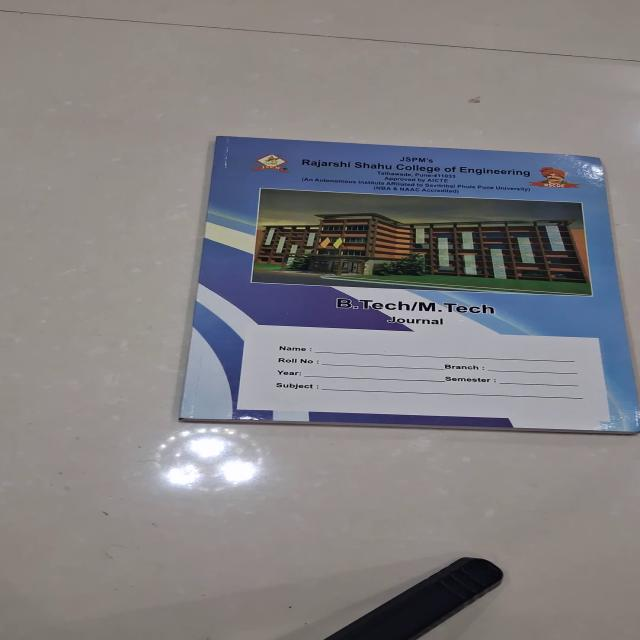paper: (177, 135, 638, 433)
